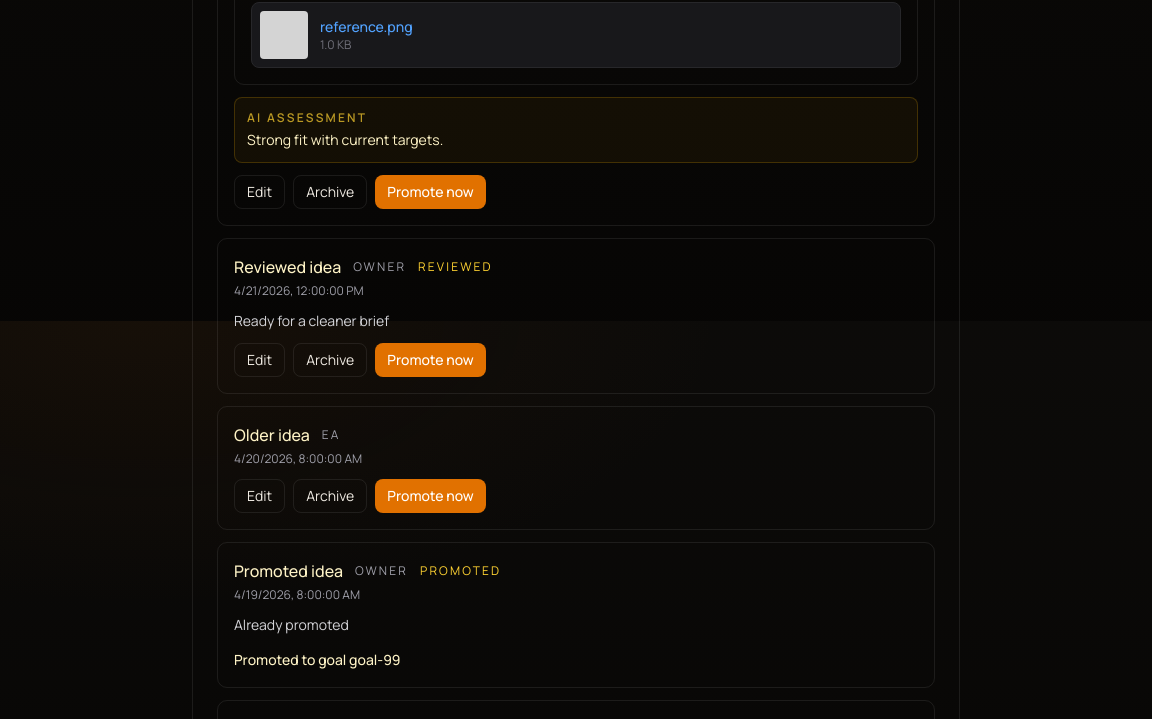
Test: HiveIdeasPage › shows edit only for open/reviewed ideas and saves reviewed edits
(page scrolled)
Expected: the heading "Reviewed idea" is shown, [234,255,341,279]
Expected: the text "Promoted idea" is shown, [234,560,343,582]
Click the button "Edit" below "Ready for a cleaner brief" at coordinates (260, 360), box [234,343,285,377]
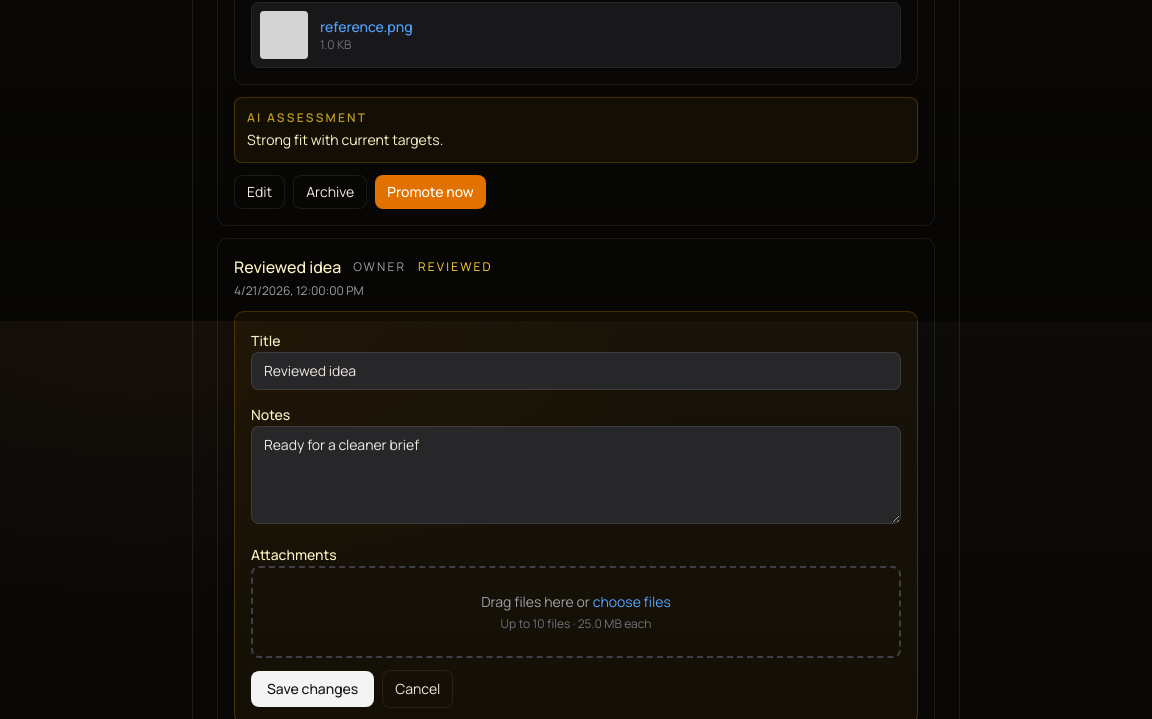
Replace the text in the field labelled "Title" with "Reviewed idea refined" at coordinates (576, 371), box [251,352,901,390]
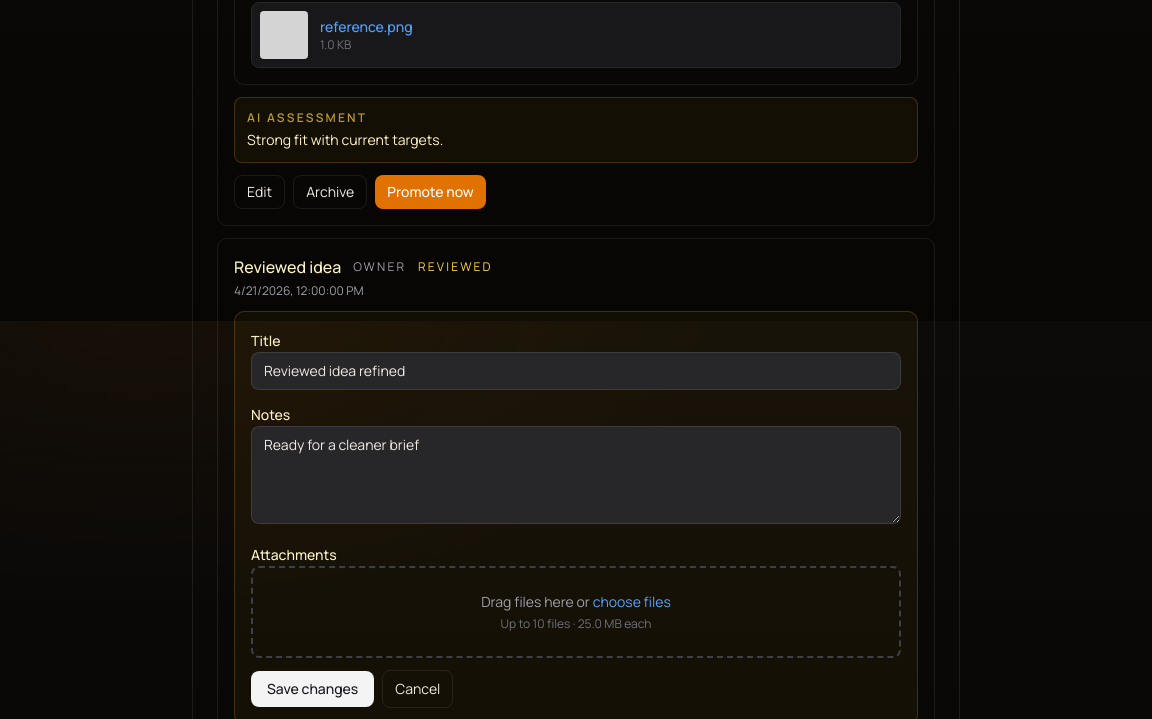
Replace the text in the text box labelled "Notes" with "Updated reviewed notes" at coordinates (576, 475), box [251,426,901,524]
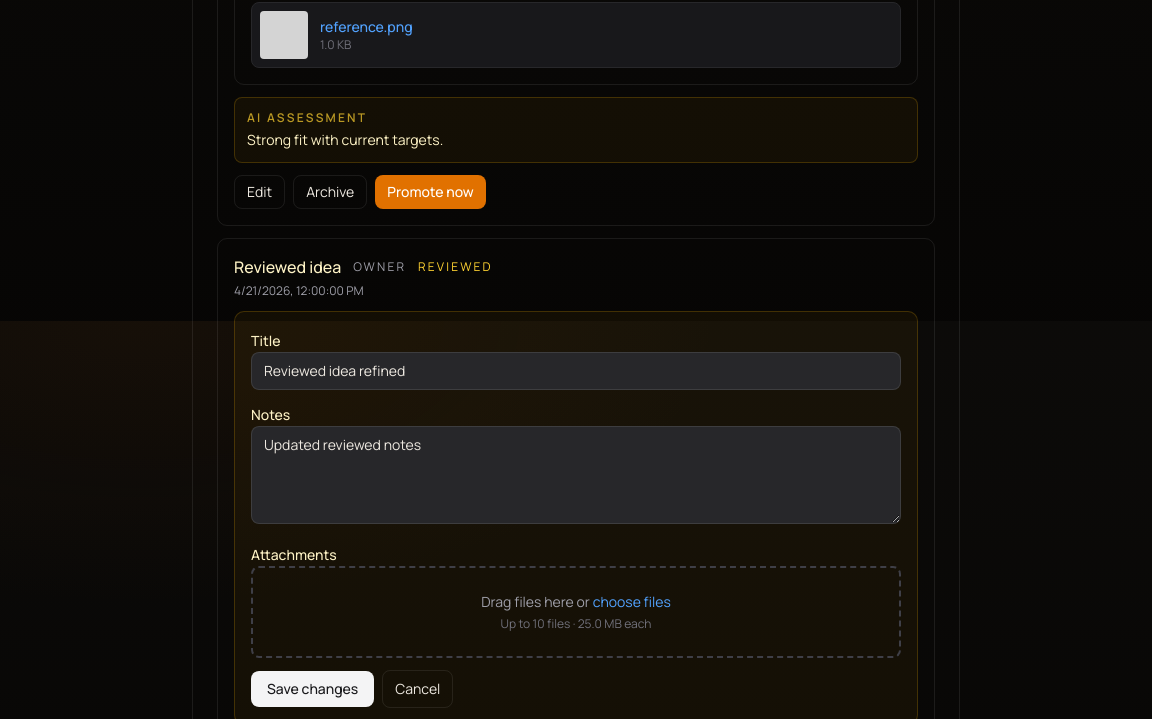
Click the button "Save changes" at coordinates (313, 689), box [251,671,374,707]
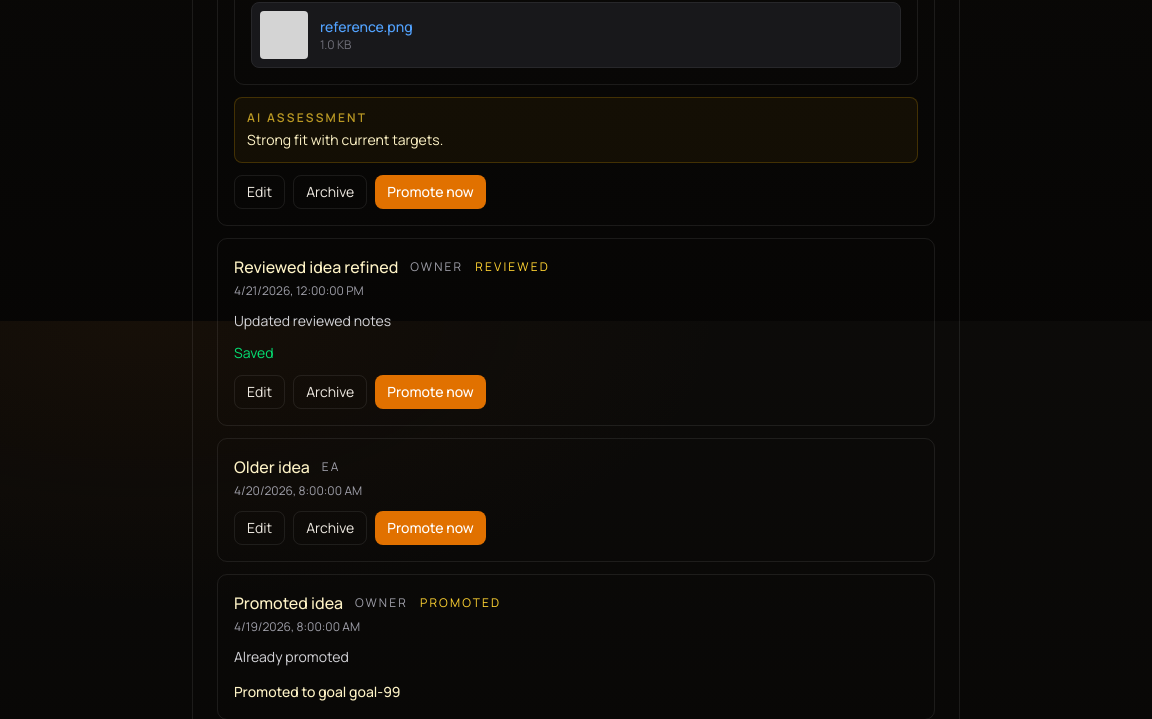
Result: the heading "Reviewed idea refined" is shown at [234,255,398,279]
Result: the text "Updated reviewed notes" is shown at [234,311,391,330]
Result: the text "Saved" is shown at [234,343,274,362]
